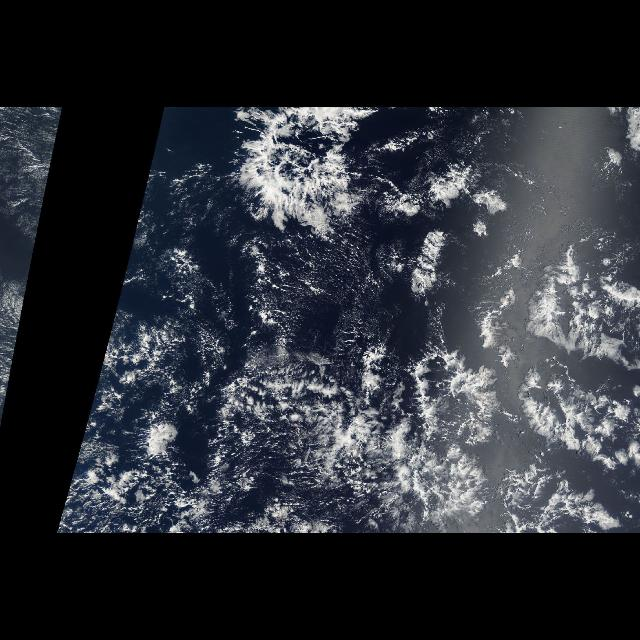Fish: (220, 117, 370, 246)
Flower: (224, 110, 398, 240)
Gravel: (217, 354, 506, 528)
Sugar: (225, 232, 392, 346), (2, 107, 66, 245)
